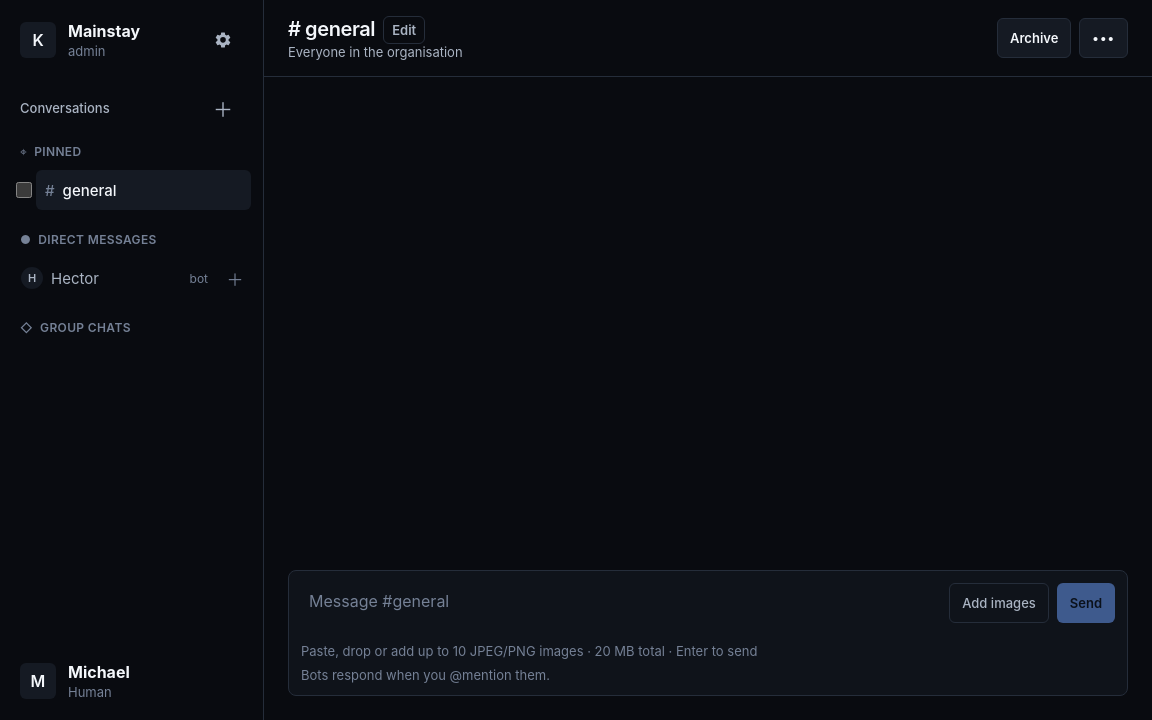
Test: K-Mainstay UI › does not duplicate a created conversation already returned by reconnect refresh
Click the button with test id "new-direct-topic-b1" at (235, 278), box top-left (219, 262), bottom-right (251, 294)
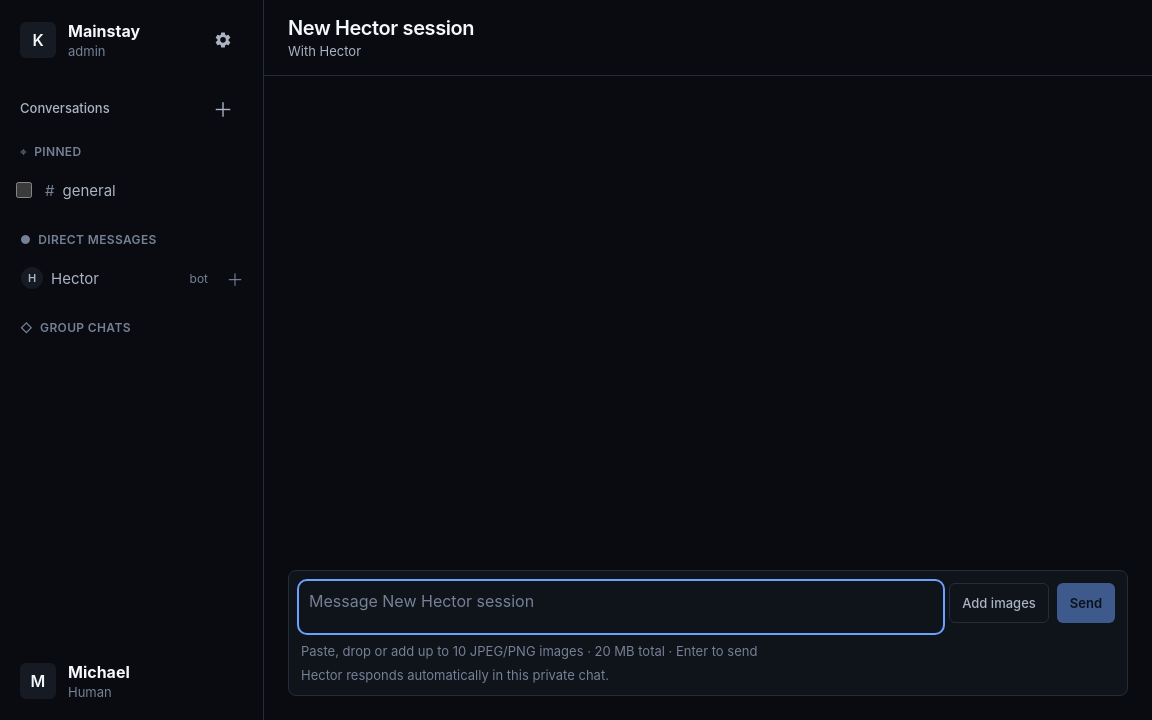
Type "One chat only" into the dropdown with placeholder "Message New Hector session" at (621, 607), box top-left (301, 583), bottom-right (941, 631)
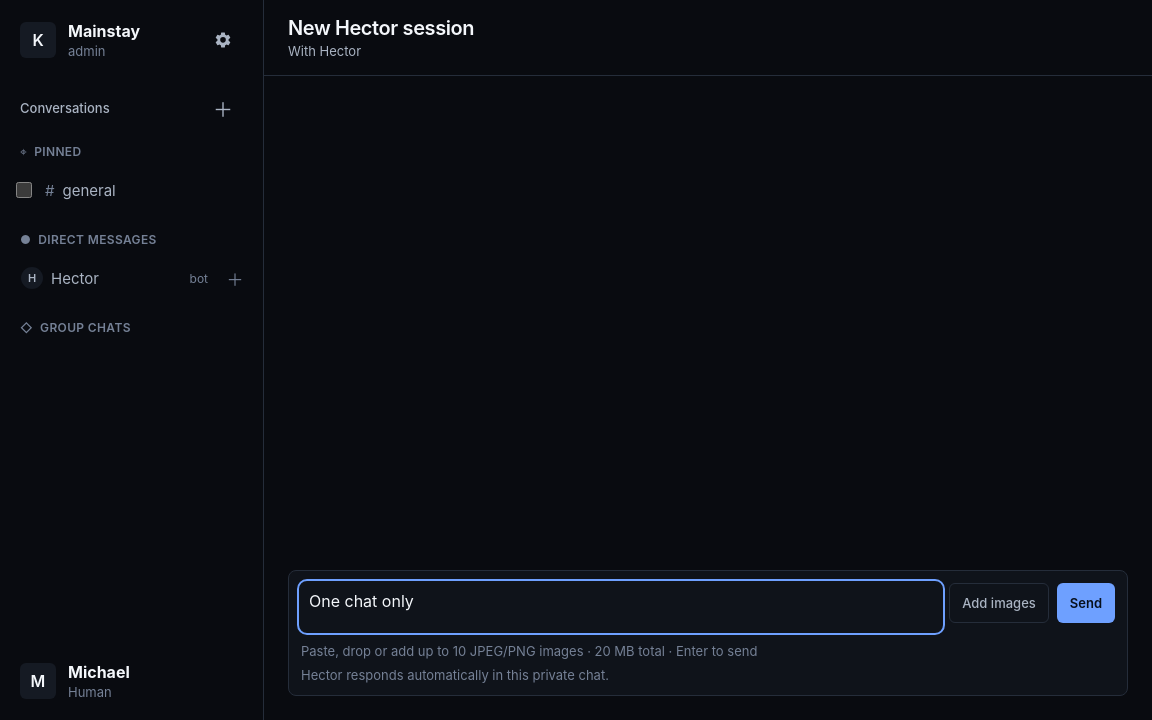
Submit the form with test id "composer", box top-left (288, 570), bottom-right (1128, 696)
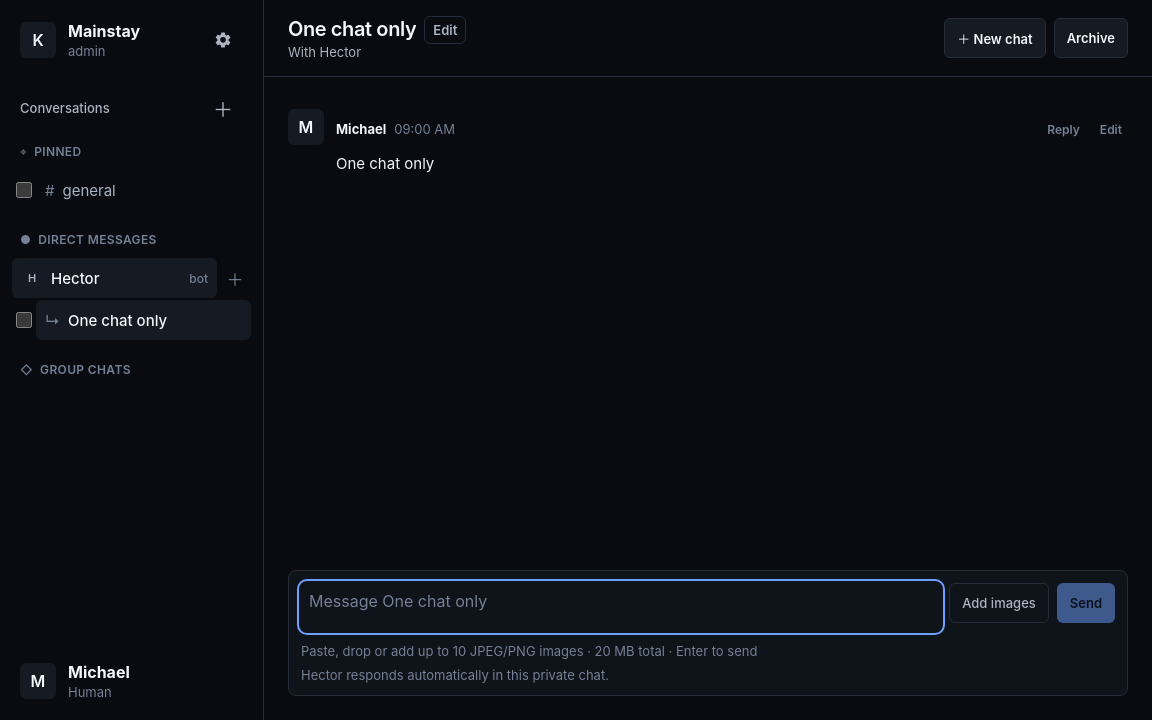
Expected: the number of buttons with class "direct-topic" is 1, top-left (36, 300), bottom-right (251, 340)
Expected: the heading "One chat only" is shown, top-left (288, 16), bottom-right (416, 42)
